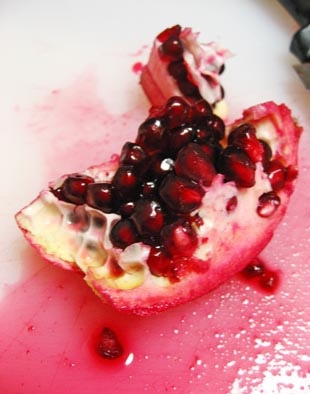pomogranate: (12, 99, 306, 318), (138, 23, 234, 120)
